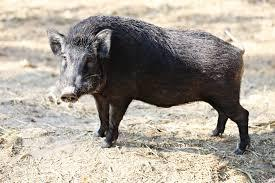wildboar: (45, 13, 254, 157)
